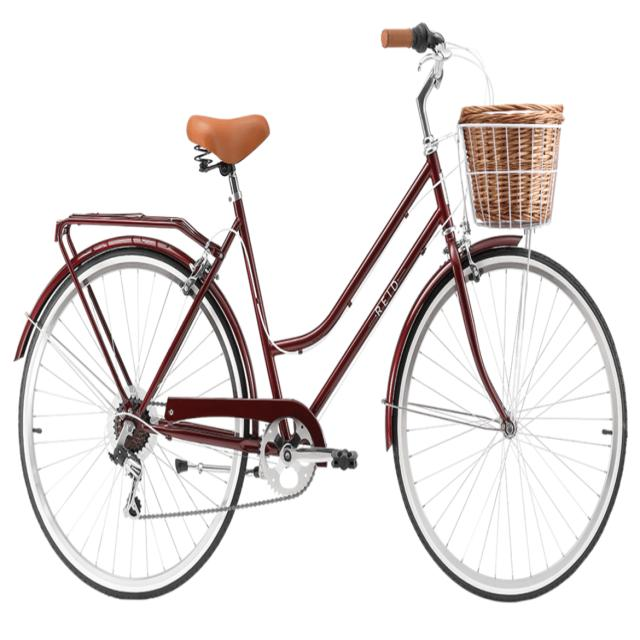urban-bike: (14, 23, 630, 604)
